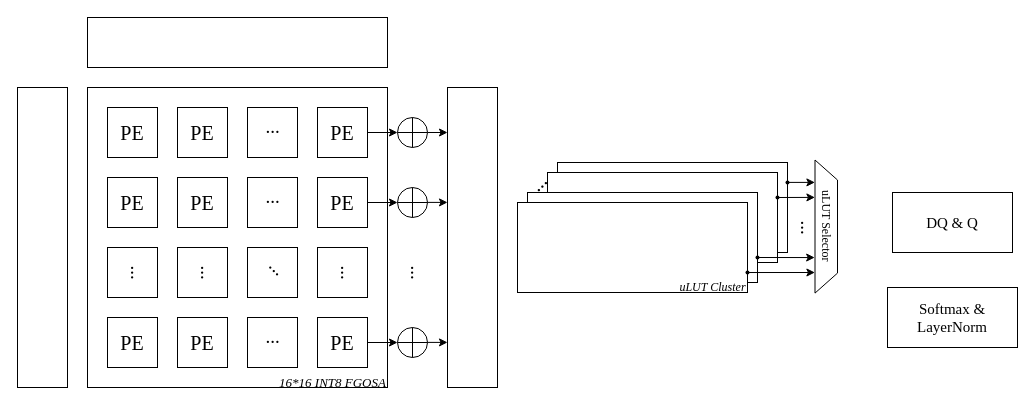
The diagram is 1035 pixels wide and 415 high, and some of its shapes have lost their labels. The centre of each missing label's shape, as x and y in pixels:
Input Buffer: point (42, 237)
Partial Sum: point (472, 237)
Weight Buffer: point (237, 42)
